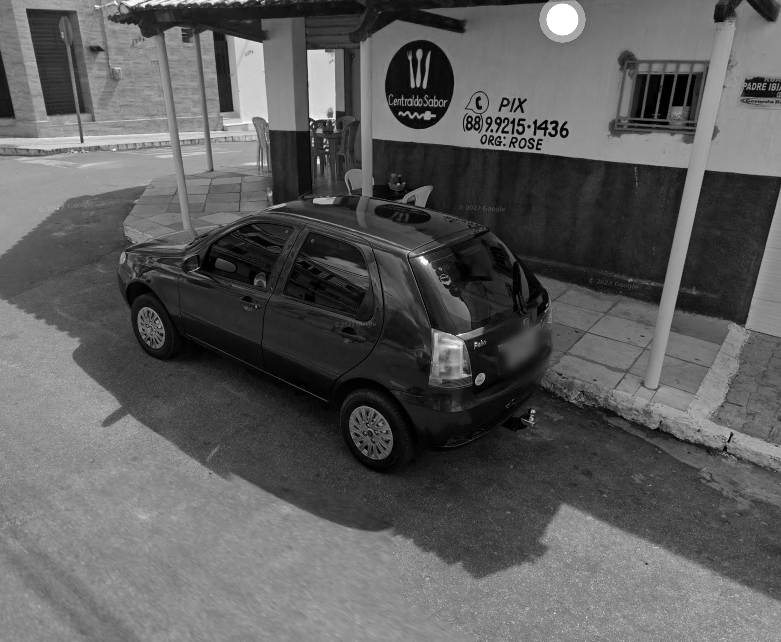car: (101, 178, 565, 479)
